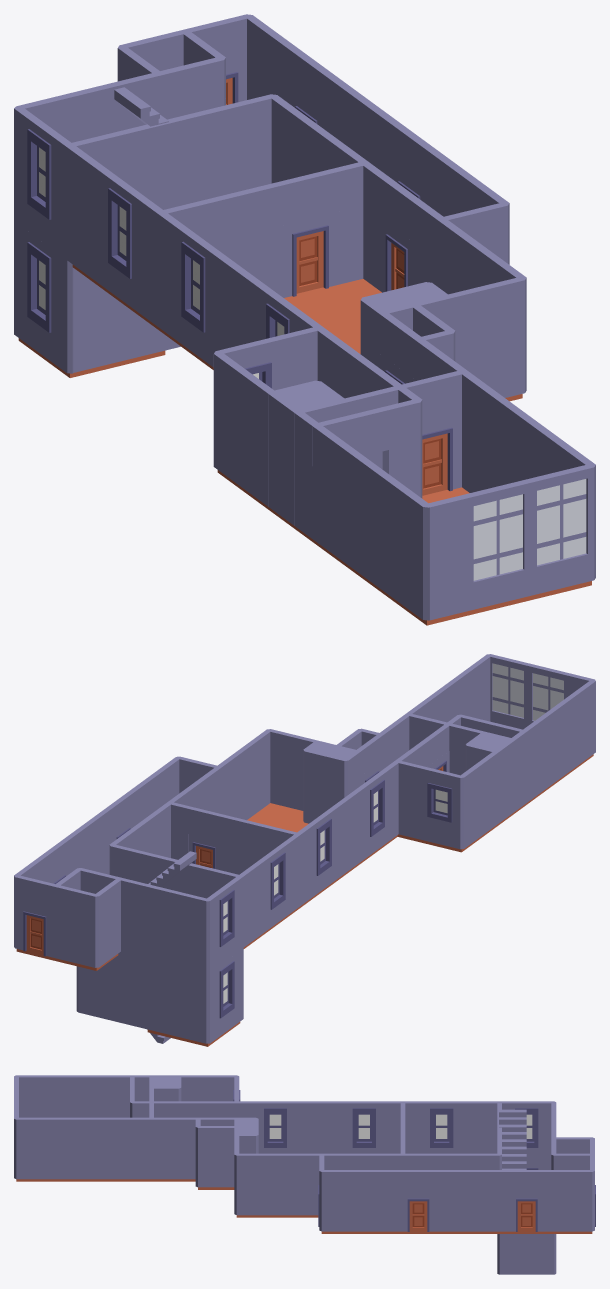
The model's file is 36-old.glb.
3 renders of one model, top to bottom at view 1: azimuth 30°, elevation 25°; view 2: azimuth 150°, elevation 25°; view 3: azimuth 270°, elevation 25°, orthographic. The views are drawn at different scales.
Visible parts, largest first — view 1: wall (×51), wall_half (×18), window_closed (×6), wall_window (×2), doorway_doorSolid (×4), porch_floorCenter (×2), stairs_stone; view 2: wall (×43), wall_half (×11), window_closed (×6), wall_window (×2), doorway_doorSolid (×2), porch_floorCenter, stairs_stone; view 3: wall (×29), wall_half (×17), window_closed (×4), doorway_doorSolid (×2), stairs_stone, porch_floorCenter (×2).
Boxes of the visible parts, box(x1,y1,x2,y2) form: wall (×51): box(27, 14, 595, 620); wall_half (×18): box(14, 106, 469, 620); window_closed (×6): box(22, 112, 304, 433); wall_window (×2): box(464, 464, 595, 591); doorway_doorSolid (×4): box(226, 58, 461, 495); porch_floorCenter (×2): box(72, 265, 591, 625); stairs_stone: box(114, 87, 168, 126); wall (×43): box(15, 654, 595, 1041); wall_half (×11): box(169, 754, 494, 1043); window_closed (×6): box(212, 771, 463, 1026); wall_window (×2): box(487, 654, 569, 725); doorway_doorSolid (×2): box(15, 834, 221, 957); porch_floorCenter: box(243, 803, 397, 948); stairs_stone: box(148, 851, 196, 887); wall (×29): box(14, 1075, 591, 1274); wall_half (×17): box(130, 1075, 594, 1274); window_closed (×4): box(254, 1101, 547, 1148); doorway_doorSolid (×2): box(399, 1193, 545, 1231); stairs_stone: box(499, 1109, 526, 1161); porch_floorCenter (×2): box(16, 1179, 499, 1233).
Bounding box in the file's own units: 5.96 × 3.99 × 15.06.
